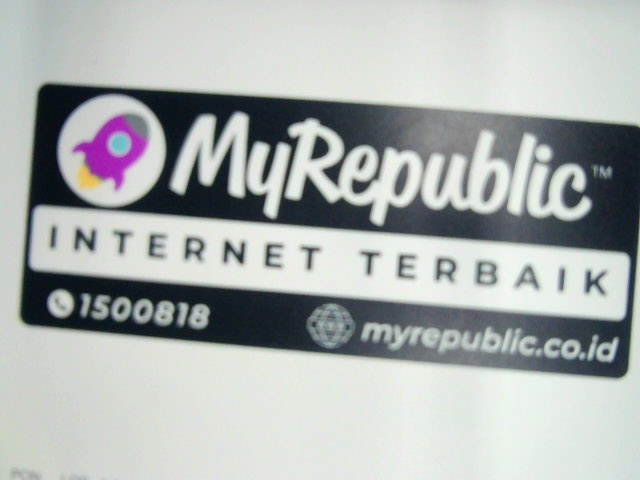BD_MyRepublic: (9, 78, 638, 377)
